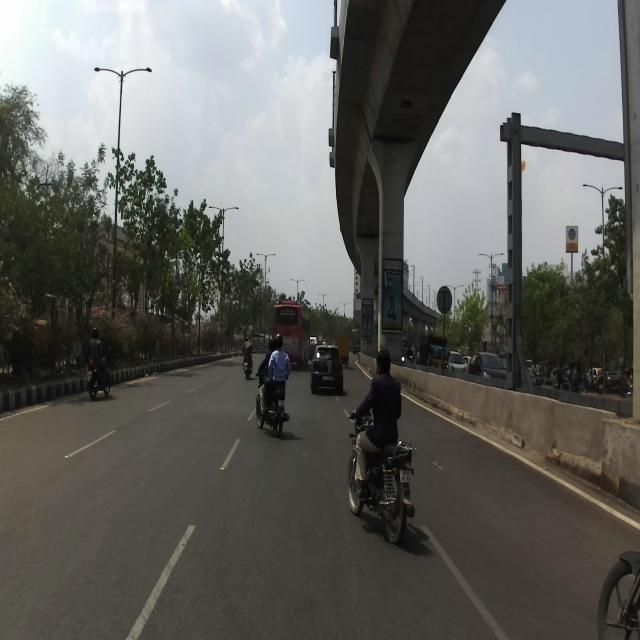motorcycle: (347, 408, 416, 542), (254, 363, 289, 437)
